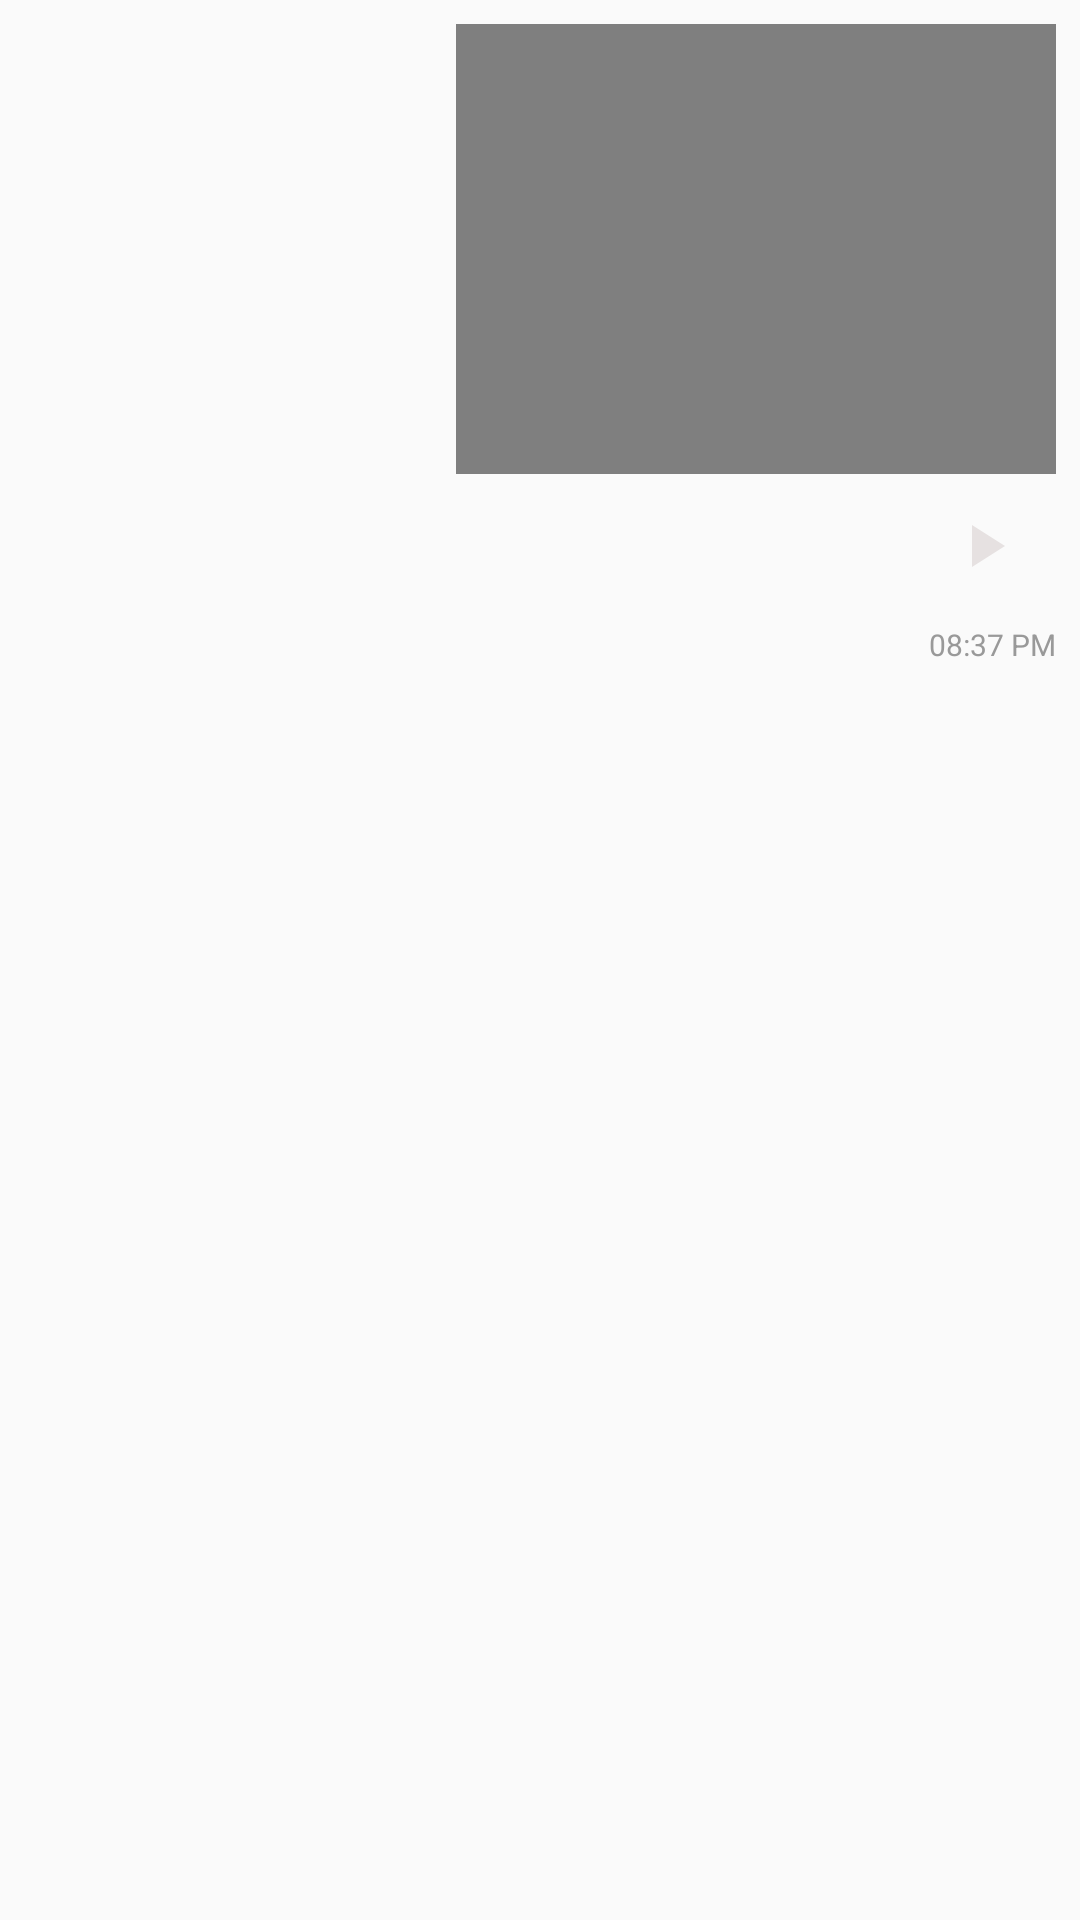

Icons on this 1080x1920 Android screen, each with its box as (x1, y1, x2, y2):
Play video: (972, 526, 1003, 566)
